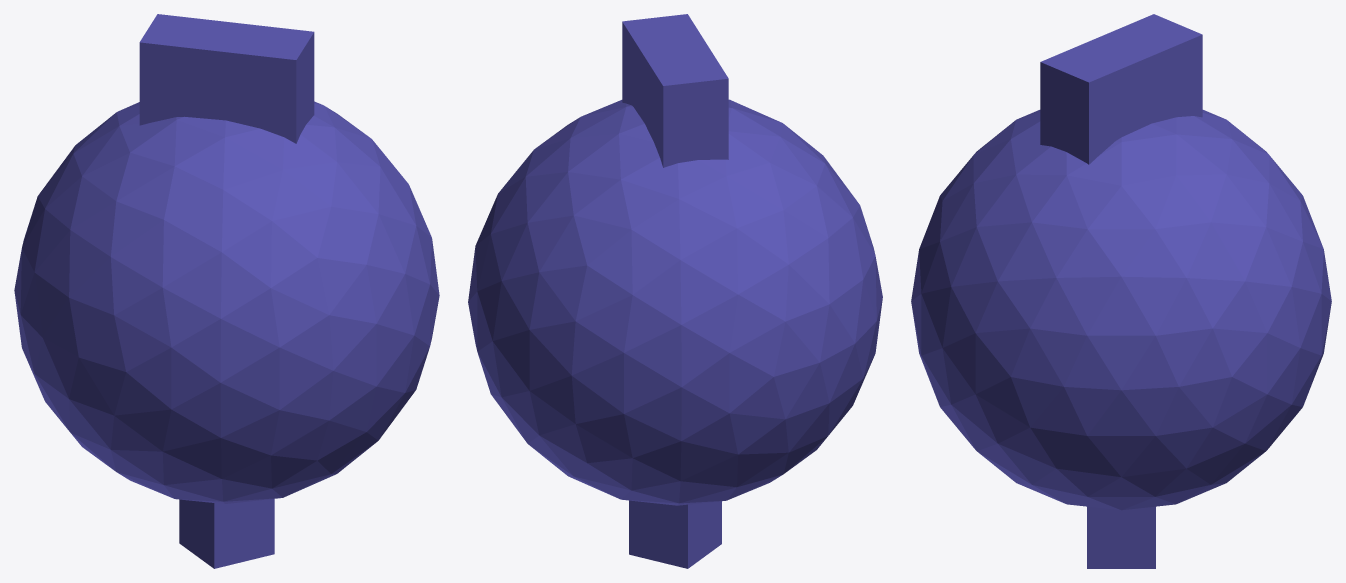
The model's file is love_014.glb.
3 renders of one model, left to right at view 1: azimuth 30°, elevation 25°; view 2: azimuth 150°, elevation 25°; view 3: azimuth 270°, elevation 25°, orthographic. The views are drawn at different scales.
Parts seen in each view (by area): view 1: world; view 2: world; view 3: world.
Boxes of the visible parts, x1,y1,x2,y2 form: world: (14, 14, 439, 568); world: (468, 14, 882, 568); world: (911, 14, 1331, 568).
Bounding box in the file's own units: 1.1 × 1.46 × 1.1.
